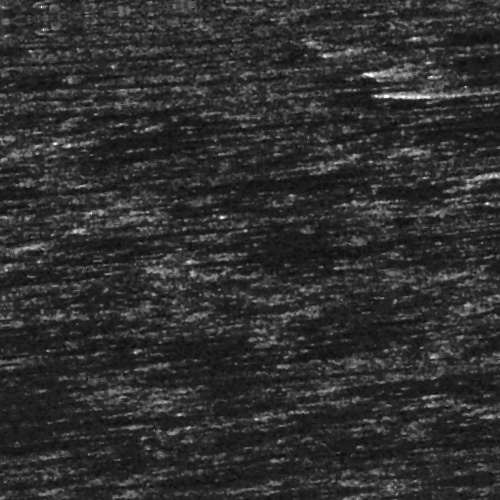object: (364, 100, 500, 117), (313, 50, 438, 63), (123, 250, 228, 265), (356, 75, 439, 90), (4, 220, 97, 229), (10, 482, 103, 491), (464, 192, 500, 199)
shadow: (176, 250, 359, 265), (50, 220, 315, 229), (376, 50, 500, 63), (398, 75, 500, 90), (0, 165, 79, 180), (57, 482, 133, 491), (462, 100, 500, 117)
